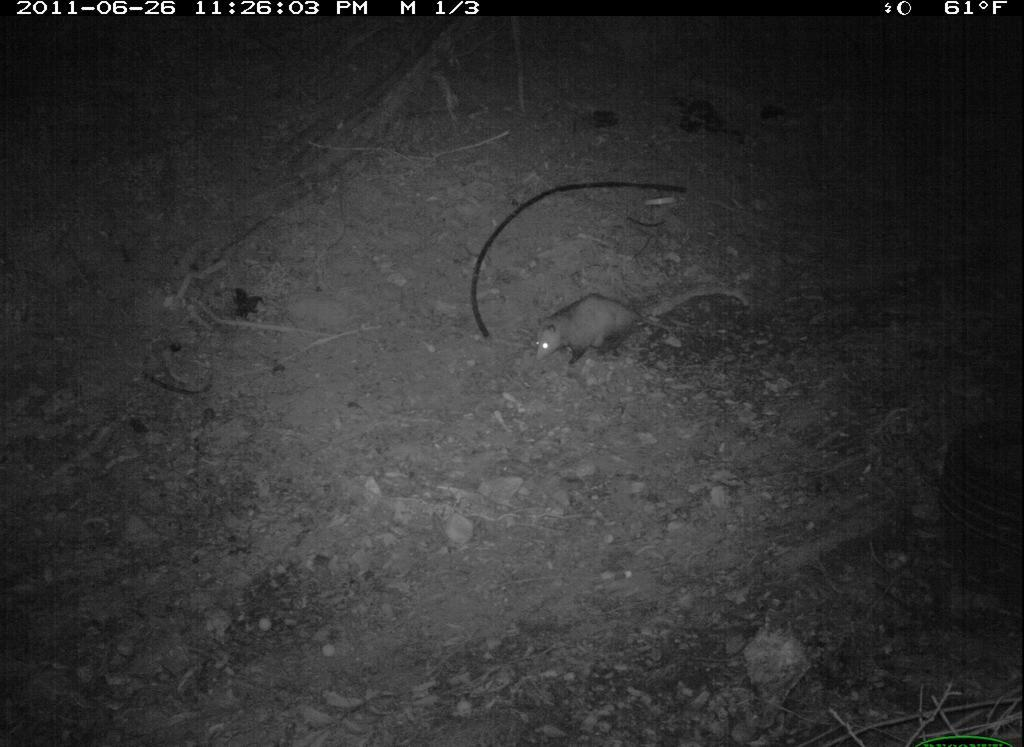opossum: (521, 276, 751, 374)
